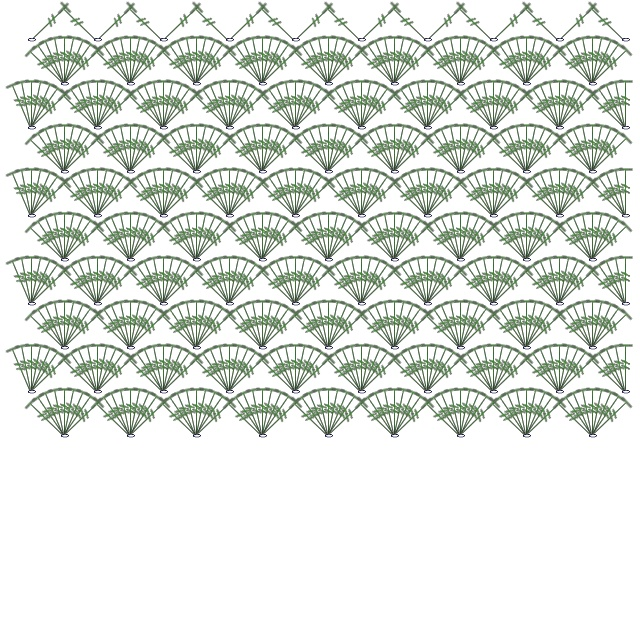chain: (27, 36, 37, 44), (93, 36, 103, 44), (159, 36, 169, 44), (225, 36, 235, 44), (291, 36, 301, 44), (357, 36, 367, 44), (423, 36, 433, 44), (489, 36, 499, 44), (555, 36, 565, 44), (621, 36, 631, 44), (60, 80, 70, 88), (126, 80, 136, 88), (192, 80, 202, 88), (258, 80, 268, 88), (324, 80, 334, 88), (390, 80, 400, 88), (456, 80, 466, 88), (522, 80, 532, 88), (588, 80, 598, 88), (27, 124, 37, 132), (93, 124, 103, 132), (159, 124, 169, 132), (225, 124, 235, 132), (291, 124, 301, 132), (357, 124, 367, 132), (423, 124, 433, 132), (489, 124, 499, 132), (555, 124, 565, 132), (621, 124, 631, 132), (60, 168, 70, 176), (126, 168, 136, 176), (192, 168, 202, 176), (258, 168, 268, 176), (324, 168, 334, 176), (390, 168, 400, 176), (456, 168, 466, 176), (522, 168, 532, 176), (588, 168, 598, 176), (27, 212, 37, 220), (93, 212, 103, 220), (159, 212, 169, 220), (225, 212, 235, 220), (291, 212, 301, 220), (357, 212, 367, 220), (423, 212, 433, 220), (489, 212, 499, 220), (555, 212, 565, 220), (621, 212, 631, 220), (60, 256, 70, 264), (126, 256, 136, 264), (192, 256, 202, 264), (258, 256, 268, 264), (324, 256, 334, 264), (390, 256, 400, 264), (456, 256, 466, 264), (522, 256, 532, 264), (588, 256, 598, 264), (27, 300, 37, 308), (93, 300, 103, 308), (159, 300, 169, 308), (225, 300, 235, 308), (291, 300, 301, 308), (357, 300, 367, 308), (423, 300, 433, 308), (489, 300, 499, 308), (555, 300, 565, 308), (621, 300, 631, 308), (60, 344, 70, 352), (126, 344, 136, 352), (192, 344, 202, 352), (258, 344, 268, 352), (324, 344, 334, 352), (390, 344, 400, 352), (456, 344, 466, 352), (522, 344, 532, 352), (588, 344, 598, 352), (27, 388, 37, 396), (93, 388, 103, 396), (159, 388, 169, 396), (225, 388, 235, 396), (291, 388, 301, 396), (357, 388, 367, 396), (423, 388, 433, 396), (489, 388, 499, 396), (555, 388, 565, 396), (621, 388, 631, 396), (60, 432, 70, 440), (126, 432, 136, 440), (192, 432, 202, 440), (258, 432, 268, 440), (324, 432, 334, 440), (390, 432, 400, 440), (456, 432, 466, 440), (522, 432, 532, 440), (588, 432, 598, 440)
fan: (24, 43, 71, 90), (59, 43, 106, 90), (90, 43, 137, 90), (125, 43, 172, 90), (156, 43, 203, 90), (191, 43, 238, 90), (222, 43, 269, 90), (257, 43, 304, 90), (288, 43, 335, 90), (323, 43, 370, 90), (354, 43, 401, 90), (389, 43, 436, 90), (420, 43, 467, 90), (455, 43, 502, 90), (486, 43, 533, 90), (521, 43, 568, 90), (552, 43, 599, 90), (587, 43, 634, 90), (26, 87, 73, 134), (57, 87, 104, 134), (92, 87, 139, 134), (123, 87, 170, 134), (158, 87, 205, 134), (189, 87, 236, 134), (224, 87, 271, 134), (255, 87, 302, 134), (290, 87, 337, 134), (321, 87, 368, 134), (356, 87, 403, 134), (387, 87, 434, 134), (422, 87, 469, 134), (453, 87, 500, 134), (488, 87, 535, 134), (519, 87, 566, 134), (554, 87, 601, 134), (585, 87, 632, 134), (24, 131, 71, 178), (59, 131, 106, 178), (90, 131, 137, 178), (125, 131, 172, 178), (156, 131, 203, 178), (191, 131, 238, 178), (222, 131, 269, 178), (257, 131, 304, 178), (288, 131, 335, 178), (323, 131, 370, 178), (354, 131, 401, 178), (389, 131, 436, 178), (420, 131, 467, 178), (455, 131, 502, 178), (486, 131, 533, 178), (521, 131, 568, 178), (552, 131, 599, 178), (587, 131, 634, 178), (26, 175, 73, 222), (57, 175, 104, 222), (92, 175, 139, 222), (123, 175, 170, 222), (158, 175, 205, 222), (189, 175, 236, 222), (224, 175, 271, 222), (255, 175, 302, 222), (290, 175, 337, 222), (321, 175, 368, 222), (356, 175, 403, 222), (387, 175, 434, 222), (422, 175, 469, 222), (453, 175, 500, 222), (488, 175, 535, 222), (519, 175, 566, 222), (554, 175, 601, 222), (585, 175, 632, 222), (24, 219, 71, 266), (59, 219, 106, 266), (90, 219, 137, 266), (125, 219, 172, 266), (156, 219, 203, 266), (191, 219, 238, 266), (222, 219, 269, 266), (257, 219, 304, 266), (288, 219, 335, 266), (323, 219, 370, 266), (354, 219, 401, 266), (389, 219, 436, 266), (420, 219, 467, 266), (455, 219, 502, 266), (486, 219, 533, 266), (521, 219, 568, 266), (552, 219, 599, 266), (587, 219, 634, 266), (26, 263, 73, 310), (57, 263, 104, 310), (92, 263, 139, 310), (123, 263, 170, 310), (158, 263, 205, 310), (189, 263, 236, 310), (224, 263, 271, 310), (255, 263, 302, 310), (290, 263, 337, 310), (321, 263, 368, 310), (356, 263, 403, 310), (387, 263, 434, 310), (422, 263, 469, 310), (453, 263, 500, 310), (488, 263, 535, 310), (519, 263, 566, 310), (554, 263, 601, 310), (585, 263, 632, 310), (24, 307, 71, 354), (59, 307, 106, 354), (90, 307, 137, 354), (125, 307, 172, 354), (156, 307, 203, 354), (191, 307, 238, 354), (222, 307, 269, 354), (257, 307, 304, 354), (288, 307, 335, 354), (323, 307, 370, 354), (354, 307, 401, 354), (389, 307, 436, 354), (420, 307, 467, 354), (455, 307, 502, 354), (486, 307, 533, 354), (521, 307, 568, 354), (552, 307, 599, 354), (587, 307, 634, 354), (26, 351, 73, 398), (57, 351, 104, 398), (92, 351, 139, 398), (123, 351, 170, 398), (158, 351, 205, 398), (189, 351, 236, 398), (224, 351, 271, 398), (255, 351, 302, 398), (290, 351, 337, 398), (321, 351, 368, 398), (356, 351, 403, 398), (387, 351, 434, 398), (422, 351, 469, 398), (453, 351, 500, 398), (488, 351, 535, 398), (519, 351, 566, 398), (554, 351, 601, 398), (585, 351, 632, 398), (24, 395, 71, 442), (59, 395, 106, 442), (90, 395, 137, 442), (125, 395, 172, 442), (156, 395, 203, 442), (191, 395, 238, 442), (222, 395, 269, 442), (257, 395, 304, 442), (288, 395, 335, 442), (323, 395, 370, 442), (354, 395, 401, 442), (389, 395, 436, 442), (420, 395, 467, 442), (455, 395, 502, 442), (486, 395, 533, 442), (521, 395, 568, 442), (552, 395, 599, 442), (587, 395, 634, 442), (26, 0, 73, 46), (57, 0, 104, 46), (92, 0, 139, 46), (123, 0, 170, 46), (158, 0, 205, 46), (189, 0, 236, 46), (224, 0, 271, 46), (255, 0, 302, 46), (290, 0, 337, 46), (321, 0, 368, 46), (356, 0, 403, 46), (387, 0, 434, 46), (422, 0, 469, 46), (453, 0, 500, 46), (488, 0, 535, 46), (519, 0, 566, 46), (554, 0, 601, 46), (585, 0, 632, 46), (30, 39, 72, 89), (58, 39, 100, 89), (96, 39, 138, 89), (124, 39, 166, 89), (162, 39, 204, 89), (190, 39, 232, 89), (228, 39, 270, 89), (256, 39, 298, 89), (294, 39, 336, 89), (322, 39, 364, 89), (360, 39, 402, 89), (388, 39, 430, 89), (426, 39, 468, 89), (454, 39, 496, 89), (492, 39, 534, 89), (520, 39, 562, 89), (558, 39, 600, 89), (586, 39, 628, 89), (25, 83, 67, 133), (63, 83, 105, 133), (91, 83, 133, 133), (129, 83, 171, 133), (157, 83, 199, 133), (195, 83, 237, 133), (223, 83, 265, 133), (261, 83, 303, 133), (289, 83, 331, 133), (327, 83, 369, 133), (355, 83, 397, 133), (393, 83, 435, 133), (421, 83, 463, 133), (459, 83, 501, 133), (487, 83, 529, 133), (525, 83, 567, 133), (553, 83, 595, 133), (591, 83, 633, 133), (30, 127, 72, 177), (58, 127, 100, 177), (96, 127, 138, 177), (124, 127, 166, 177), (162, 127, 204, 177), (190, 127, 232, 177), (228, 127, 270, 177), (256, 127, 298, 177), (294, 127, 336, 177), (322, 127, 364, 177), (360, 127, 402, 177), (388, 127, 430, 177), (426, 127, 468, 177), (454, 127, 496, 177), (492, 127, 534, 177), (520, 127, 562, 177), (558, 127, 600, 177), (586, 127, 628, 177), (25, 171, 67, 221), (63, 171, 105, 221), (91, 171, 133, 221), (129, 171, 171, 221), (157, 171, 199, 221), (195, 171, 237, 221), (223, 171, 265, 221), (261, 171, 303, 221), (289, 171, 331, 221), (327, 171, 369, 221), (355, 171, 397, 221), (393, 171, 435, 221), (421, 171, 463, 221), (459, 171, 501, 221), (487, 171, 529, 221), (525, 171, 567, 221), (553, 171, 595, 221), (591, 171, 633, 221), (30, 215, 72, 265), (58, 215, 100, 265), (96, 215, 138, 265), (124, 215, 166, 265), (162, 215, 204, 265), (190, 215, 232, 265), (228, 215, 270, 265), (256, 215, 298, 265), (294, 215, 336, 265), (322, 215, 364, 265), (360, 215, 402, 265), (388, 215, 430, 265), (426, 215, 468, 265), (454, 215, 496, 265), (492, 215, 534, 265), (520, 215, 562, 265), (558, 215, 600, 265), (586, 215, 628, 265), (25, 259, 67, 309), (63, 259, 105, 309), (91, 259, 133, 309), (129, 259, 171, 309), (157, 259, 199, 309), (195, 259, 237, 309), (223, 259, 265, 309), (261, 259, 303, 309), (289, 259, 331, 309), (327, 259, 369, 309), (355, 259, 397, 309), (393, 259, 435, 309), (421, 259, 463, 309), (459, 259, 501, 309), (487, 259, 529, 309), (525, 259, 567, 309), (553, 259, 595, 309), (591, 259, 633, 309), (30, 303, 72, 353), (58, 303, 100, 353), (96, 303, 138, 353), (124, 303, 166, 353), (162, 303, 204, 353), (190, 303, 232, 353), (228, 303, 270, 353), (256, 303, 298, 353), (294, 303, 336, 353), (322, 303, 364, 353), (360, 303, 402, 353), (388, 303, 430, 353), (426, 303, 468, 353), (454, 303, 496, 353), (492, 303, 534, 353), (520, 303, 562, 353), (558, 303, 600, 353), (586, 303, 628, 353), (25, 347, 67, 397), (63, 347, 105, 397), (91, 347, 133, 397), (129, 347, 171, 397), (157, 347, 199, 397), (195, 347, 237, 397), (223, 347, 265, 397), (261, 347, 303, 397), (289, 347, 331, 397), (327, 347, 369, 397), (355, 347, 397, 397), (393, 347, 435, 397), (421, 347, 463, 397), (459, 347, 501, 397), (487, 347, 529, 397), (525, 347, 567, 397), (553, 347, 595, 397), (591, 347, 633, 397), (30, 391, 72, 441), (58, 391, 100, 441), (96, 391, 138, 441), (124, 391, 166, 441), (162, 391, 204, 441), (190, 391, 232, 441), (228, 391, 270, 441), (256, 391, 298, 441), (294, 391, 336, 441), (322, 391, 364, 441), (360, 391, 402, 441), (388, 391, 430, 441), (426, 391, 468, 441), (454, 391, 496, 441), (492, 391, 534, 441), (520, 391, 562, 441), (558, 391, 600, 441), (586, 391, 628, 441), (38, 35, 73, 88), (57, 35, 92, 88), (104, 35, 139, 88), (123, 35, 158, 88), (170, 35, 205, 88), (189, 35, 224, 88), (236, 35, 271, 88), (255, 35, 290, 88), (302, 35, 337, 88), (321, 35, 356, 88), (368, 35, 403, 88), (387, 35, 422, 88), (434, 35, 469, 88), (453, 35, 488, 88), (500, 35, 535, 88), (519, 35, 554, 88), (566, 35, 601, 88), (585, 35, 620, 88), (5, 79, 40, 132), (24, 79, 59, 132), (71, 79, 106, 132), (90, 79, 125, 132), (137, 79, 172, 132), (156, 79, 191, 132), (203, 79, 238, 132), (222, 79, 257, 132), (269, 79, 304, 132), (288, 79, 323, 132), (335, 79, 370, 132), (354, 79, 389, 132), (401, 79, 436, 132), (420, 79, 455, 132), (467, 79, 502, 132), (486, 79, 521, 132), (533, 79, 568, 132), (552, 79, 587, 132), (599, 79, 634, 132), (38, 123, 73, 176), (57, 123, 92, 176), (104, 123, 139, 176), (123, 123, 158, 176), (170, 123, 205, 176), (189, 123, 224, 176), (236, 123, 271, 176), (255, 123, 290, 176), (302, 123, 337, 176), (321, 123, 356, 176), (368, 123, 403, 176), (387, 123, 422, 176), (434, 123, 469, 176), (453, 123, 488, 176), (500, 123, 535, 176), (519, 123, 554, 176), (566, 123, 601, 176), (585, 123, 620, 176), (5, 167, 40, 220), (24, 167, 59, 220), (71, 167, 106, 220), (90, 167, 125, 220), (137, 167, 172, 220), (156, 167, 191, 220), (203, 167, 238, 220), (222, 167, 257, 220), (269, 167, 304, 220), (288, 167, 323, 220), (335, 167, 370, 220), (354, 167, 389, 220), (401, 167, 436, 220), (420, 167, 455, 220), (467, 167, 502, 220), (486, 167, 521, 220), (533, 167, 568, 220), (552, 167, 587, 220), (599, 167, 634, 220), (38, 211, 73, 264), (57, 211, 92, 264), (104, 211, 139, 264), (123, 211, 158, 264), (170, 211, 205, 264), (189, 211, 224, 264), (236, 211, 271, 264), (255, 211, 290, 264), (302, 211, 337, 264), (321, 211, 356, 264), (368, 211, 403, 264), (387, 211, 422, 264), (434, 211, 469, 264), (453, 211, 488, 264), (500, 211, 535, 264), (519, 211, 554, 264), (566, 211, 601, 264), (585, 211, 620, 264), (5, 255, 40, 308), (24, 255, 59, 308), (71, 255, 106, 308), (90, 255, 125, 308), (137, 255, 172, 308), (156, 255, 191, 308), (203, 255, 238, 308), (222, 255, 257, 308), (269, 255, 304, 308), (288, 255, 323, 308), (335, 255, 370, 308), (354, 255, 389, 308), (401, 255, 436, 308), (420, 255, 455, 308), (467, 255, 502, 308), (486, 255, 521, 308), (533, 255, 568, 308), (552, 255, 587, 308), (599, 255, 634, 308), (38, 299, 73, 352), (57, 299, 92, 352), (104, 299, 139, 352), (123, 299, 158, 352), (170, 299, 205, 352), (189, 299, 224, 352), (236, 299, 271, 352), (255, 299, 290, 352), (302, 299, 337, 352), (321, 299, 356, 352), (368, 299, 403, 352), (387, 299, 422, 352), (434, 299, 469, 352), (453, 299, 488, 352), (500, 299, 535, 352), (519, 299, 554, 352), (566, 299, 601, 352), (585, 299, 620, 352), (5, 343, 40, 396), (24, 343, 59, 396), (71, 343, 106, 396), (90, 343, 125, 396), (137, 343, 172, 396), (156, 343, 191, 396), (203, 343, 238, 396), (222, 343, 257, 396), (269, 343, 304, 396), (288, 343, 323, 396), (335, 343, 370, 396), (354, 343, 389, 396), (401, 343, 436, 396), (420, 343, 455, 396), (467, 343, 502, 396), (486, 343, 521, 396), (533, 343, 568, 396), (552, 343, 587, 396), (599, 343, 634, 396), (38, 387, 73, 440), (57, 387, 92, 440), (104, 387, 139, 440), (123, 387, 158, 440), (170, 387, 205, 440), (189, 387, 224, 440), (236, 387, 271, 440), (255, 387, 290, 440), (302, 387, 337, 440), (321, 387, 356, 440), (368, 387, 403, 440), (387, 387, 422, 440), (434, 387, 469, 440), (453, 387, 488, 440), (500, 387, 535, 440), (519, 387, 554, 440), (566, 387, 601, 440), (585, 387, 620, 440), (46, 34, 74, 86), (56, 34, 84, 86), (112, 34, 140, 86), (122, 34, 150, 86), (178, 34, 206, 86), (188, 34, 216, 86), (244, 34, 272, 86), (254, 34, 282, 86), (310, 34, 338, 86), (320, 34, 348, 86), (376, 34, 404, 86), (386, 34, 414, 86), (442, 34, 470, 86), (452, 34, 480, 86), (508, 34, 536, 86), (518, 34, 546, 86), (574, 34, 602, 86), (584, 34, 612, 86), (13, 78, 41, 130), (23, 78, 51, 130), (79, 78, 107, 130), (89, 78, 117, 130), (145, 78, 173, 130), (155, 78, 183, 130), (211, 78, 239, 130), (221, 78, 249, 130), (277, 78, 305, 130), (287, 78, 315, 130), (343, 78, 371, 130), (353, 78, 381, 130), (409, 78, 437, 130), (419, 78, 447, 130), (475, 78, 503, 130), (485, 78, 513, 130), (541, 78, 569, 130), (551, 78, 579, 130), (607, 78, 635, 130), (46, 122, 74, 174), (56, 122, 84, 174), (112, 122, 140, 174), (122, 122, 150, 174), (178, 122, 206, 174), (188, 122, 216, 174), (244, 122, 272, 174), (254, 122, 282, 174), (310, 122, 338, 174), (320, 122, 348, 174), (376, 122, 404, 174), (386, 122, 414, 174), (442, 122, 470, 174), (452, 122, 480, 174), (508, 122, 536, 174), (518, 122, 546, 174), (574, 122, 602, 174), (584, 122, 612, 174), (13, 166, 41, 218), (23, 166, 51, 218), (79, 166, 107, 218), (89, 166, 117, 218), (145, 166, 173, 218), (155, 166, 183, 218), (211, 166, 239, 218), (221, 166, 249, 218), (277, 166, 305, 218), (287, 166, 315, 218), (343, 166, 371, 218), (353, 166, 381, 218), (409, 166, 437, 218), (419, 166, 447, 218), (475, 166, 503, 218), (485, 166, 513, 218), (541, 166, 569, 218), (551, 166, 579, 218), (607, 166, 635, 218), (46, 210, 74, 262), (56, 210, 84, 262), (112, 210, 140, 262), (122, 210, 150, 262), (178, 210, 206, 262), (188, 210, 216, 262), (244, 210, 272, 262), (254, 210, 282, 262), (310, 210, 338, 262), (320, 210, 348, 262), (376, 210, 404, 262), (386, 210, 414, 262), (442, 210, 470, 262), (452, 210, 480, 262), (508, 210, 536, 262), (518, 210, 546, 262), (574, 210, 602, 262), (584, 210, 612, 262), (13, 254, 41, 306), (23, 254, 51, 306), (79, 254, 107, 306), (89, 254, 117, 306), (145, 254, 173, 306), (155, 254, 183, 306), (211, 254, 239, 306), (221, 254, 249, 306), (277, 254, 305, 306), (287, 254, 315, 306), (343, 254, 371, 306), (353, 254, 381, 306), (409, 254, 437, 306), (419, 254, 447, 306), (475, 254, 503, 306), (485, 254, 513, 306), (541, 254, 569, 306), (551, 254, 579, 306), (607, 254, 635, 306), (46, 298, 74, 350), (56, 298, 84, 350), (112, 298, 140, 350), (122, 298, 150, 350), (178, 298, 206, 350), (188, 298, 216, 350), (244, 298, 272, 350), (254, 298, 282, 350), (310, 298, 338, 350), (320, 298, 348, 350), (376, 298, 404, 350), (386, 298, 414, 350), (442, 298, 470, 350), (452, 298, 480, 350), (508, 298, 536, 350), (518, 298, 546, 350), (574, 298, 602, 350), (584, 298, 612, 350), (13, 342, 41, 394), (23, 342, 51, 394), (79, 342, 107, 394), (89, 342, 117, 394), (145, 342, 173, 394), (155, 342, 183, 394), (211, 342, 239, 394), (221, 342, 249, 394), (277, 342, 305, 394), (287, 342, 315, 394), (343, 342, 371, 394), (353, 342, 381, 394), (409, 342, 437, 394), (419, 342, 447, 394), (475, 342, 503, 394), (485, 342, 513, 394), (541, 342, 569, 394), (551, 342, 579, 394), (607, 342, 635, 394), (46, 386, 74, 438), (56, 386, 84, 438), (112, 386, 140, 438), (122, 386, 150, 438), (178, 386, 206, 438), (188, 386, 216, 438), (244, 386, 272, 438), (254, 386, 282, 438), (310, 386, 338, 438), (320, 386, 348, 438), (376, 386, 404, 438), (386, 386, 414, 438), (442, 386, 470, 438), (452, 386, 480, 438), (508, 386, 536, 438), (518, 386, 546, 438), (574, 386, 602, 438), (584, 386, 612, 438), (56, 35, 74, 84), (122, 35, 140, 84), (188, 35, 206, 84), (254, 35, 272, 84), (320, 35, 338, 84), (386, 35, 404, 84), (452, 35, 470, 84), (518, 35, 536, 84), (584, 35, 602, 84), (23, 79, 41, 128), (89, 79, 107, 128), (155, 79, 173, 128), (221, 79, 239, 128), (287, 79, 305, 128), (353, 79, 371, 128), (419, 79, 437, 128), (485, 79, 503, 128), (551, 79, 569, 128), (617, 79, 635, 128), (56, 123, 74, 172), (122, 123, 140, 172), (188, 123, 206, 172), (254, 123, 272, 172), (320, 123, 338, 172), (386, 123, 404, 172), (452, 123, 470, 172), (518, 123, 536, 172), (584, 123, 602, 172), (23, 167, 41, 216), (89, 167, 107, 216), (155, 167, 173, 216), (221, 167, 239, 216), (287, 167, 305, 216), (353, 167, 371, 216), (419, 167, 437, 216), (485, 167, 503, 216), (551, 167, 569, 216), (617, 167, 635, 216), (56, 211, 74, 260), (122, 211, 140, 260), (188, 211, 206, 260), (254, 211, 272, 260), (320, 211, 338, 260), (386, 211, 404, 260), (452, 211, 470, 260), (518, 211, 536, 260), (584, 211, 602, 260), (23, 255, 41, 304), (89, 255, 107, 304), (155, 255, 173, 304), (221, 255, 239, 304), (287, 255, 305, 304), (353, 255, 371, 304), (419, 255, 437, 304), (485, 255, 503, 304), (551, 255, 569, 304), (617, 255, 635, 304), (56, 299, 74, 348), (122, 299, 140, 348), (188, 299, 206, 348), (254, 299, 272, 348), (320, 299, 338, 348), (386, 299, 404, 348), (452, 299, 470, 348), (518, 299, 536, 348), (584, 299, 602, 348), (23, 343, 41, 392), (89, 343, 107, 392), (155, 343, 173, 392), (221, 343, 239, 392), (287, 343, 305, 392), (353, 343, 371, 392), (419, 343, 437, 392), (485, 343, 503, 392), (551, 343, 569, 392), (617, 343, 635, 392), (56, 387, 74, 436), (122, 387, 140, 436), (188, 387, 206, 436), (254, 387, 272, 436), (320, 387, 338, 436), (386, 387, 404, 436), (452, 387, 470, 436), (518, 387, 536, 436), (584, 387, 602, 436)
